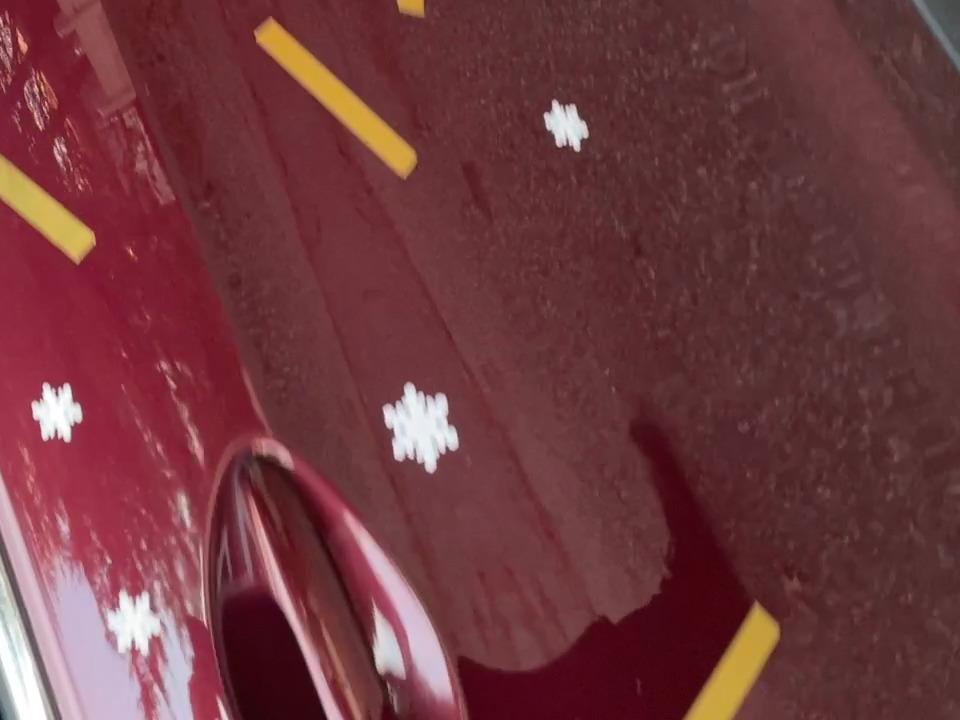dent: (371, 373, 468, 478), (95, 579, 171, 663), (21, 377, 89, 450), (533, 89, 603, 157)
scratch: (249, 7, 426, 188), (661, 589, 792, 720), (0, 122, 109, 276), (380, 0, 437, 20)
